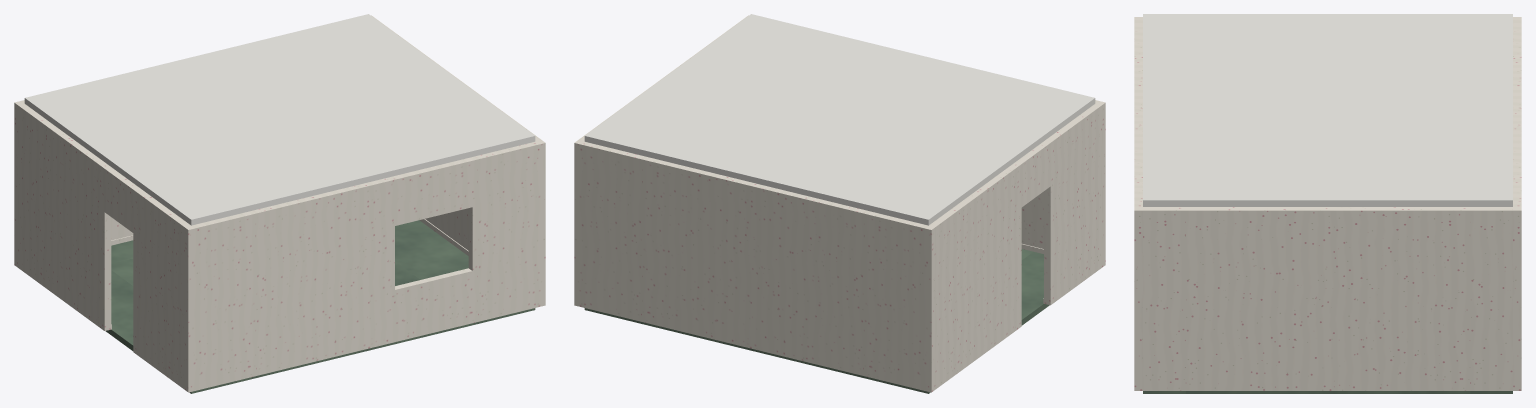
Rendered from ENV_RoomShell.fbx.
3 views of the same model, side by side, from view 1: azimuth 30°, elevation 25°; view 2: azimuth 150°, elevation 25°; view 3: azimuth 270°, elevation 25° (orthographic). The views are drawn at different scales.
Parts seen in each view (by area): view 1: Shell_Ceiling, Shell_Wall_N, Shell_Wall_E, Shell_Floor, Shell_Wall_W, Shell_Wall_S; view 2: Shell_Wall_S, Shell_Ceiling, Shell_Wall_E, Shell_Floor, Shell_Wall_N; view 3: Shell_Ceiling, Shell_Wall_W, Shell_Wall_N, Shell_Wall_S, Shell_Floor.
Part boxes in pixels (x1,y1,x2,y2): Shell_Ceiling: (24, 14, 535, 225); Shell_Wall_N: (184, 140, 545, 392); Shell_Wall_E: (18, 103, 190, 389); Shell_Floor: (105, 220, 535, 393); Shell_Wall_W: (375, 18, 541, 250); Shell_Wall_S: (14, 15, 374, 267); Shell_Wall_S: (574, 140, 935, 392); Shell_Ceiling: (584, 14, 1095, 225); Shell_Wall_E: (929, 103, 1101, 389); Shell_Floor: (584, 249, 1049, 393); Shell_Wall_N: (745, 15, 1105, 267); Shell_Ceiling: (1143, 14, 1512, 206); Shell_Wall_W: (1143, 207, 1512, 390); Shell_Wall_N: (1134, 17, 1142, 390); Shell_Wall_S: (1513, 17, 1521, 390); Shell_Floor: (1143, 391, 1512, 393).
Bounding box in the file's own units: 644 × 300 × 544.
